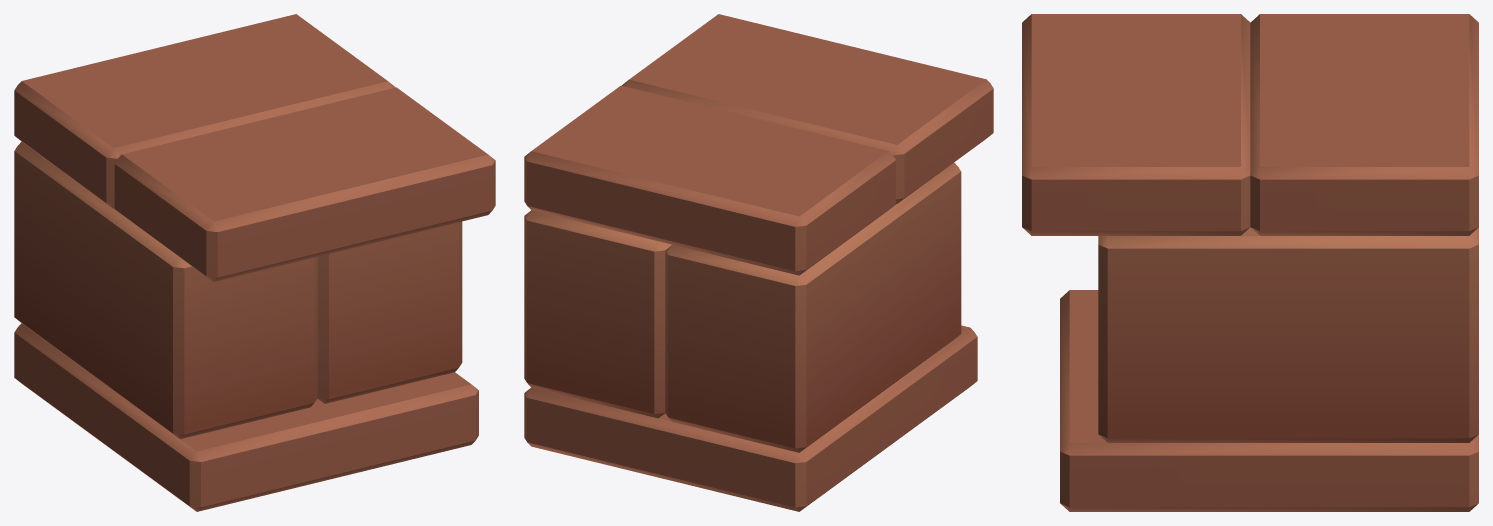
File: bar_straight_a_short.glb
3 renders of one model, left to right at view 1: azimuth 30°, elevation 25°; view 2: azimuth 150°, elevation 25°; view 3: azimuth 270°, elevation 25°, orthographic. The views are drawn at different scales.
Visible parts, largest first — view 1: bar_straight_A_short; view 2: bar_straight_A_short; view 3: bar_straight_A_short.
Boxes of the visible parts, x1,y1,x2,y2 form: bar_straight_A_short: (14,14,495,511); bar_straight_A_short: (524,14,993,511); bar_straight_A_short: (1022,14,1478,511).
Size of the model in its own units: 1 by 1 by 1.2.
Materials: 1 (1 with a texture image).
